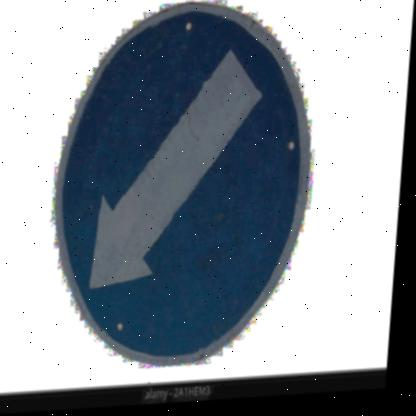Keep left: (46, 0, 328, 375)
